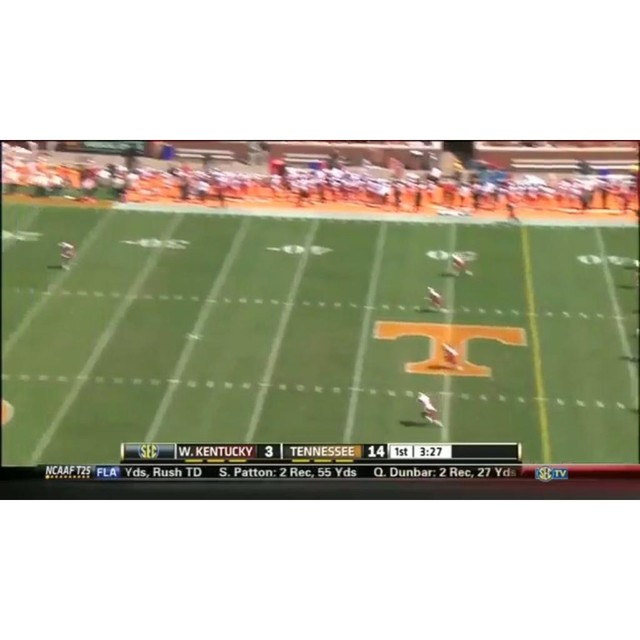american-football-player: (416, 391, 445, 428), (423, 286, 446, 313), (450, 253, 472, 278)
